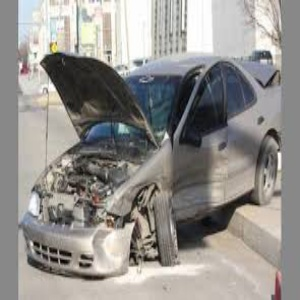bumper: (39, 215, 153, 278)
